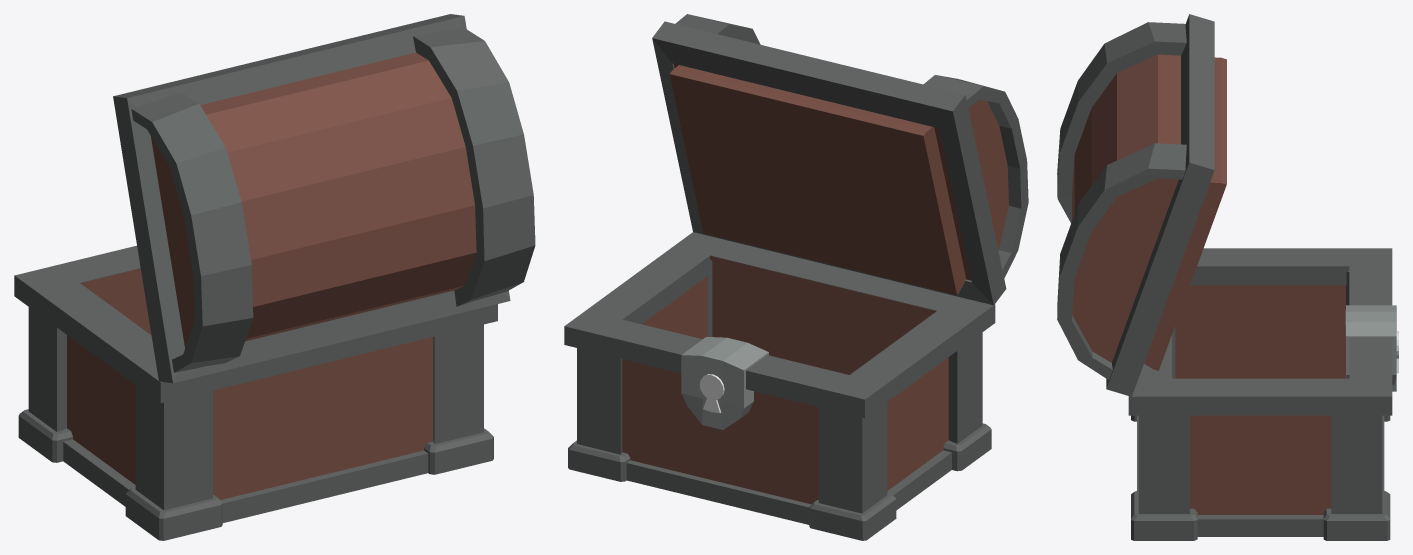
The model's file is Chest_open.fbx.
The picture shows the model from 3 angles, left to right: view 1: azimuth 30°, elevation 25°; view 2: azimuth 150°, elevation 25°; view 3: azimuth 270°, elevation 25°; orthographic projection. The views are drawn at different scales.
Parts seen in each view (by area): view 1: 뚜껑, 상자, 뚜껑기둥, 뚜껑아랫면, 상자기둥, 상자윗면, 상자아랫면, 상자기둥2; view 2: 뚜껑안, 상자, 상자윗면, 뚜껑아랫면, 상자기둥, 뚜껑기둥, 상자아랫면, 상자기둥2, 자물쇠, 뚜껑, 자물쇠구멍2; view 3: 상자, 상자윗면, 뚜껑, 뚜껑기둥, 뚜껑아랫면, 상자기둥, 뚜껑안, 상자기둥2, 상자아랫면, 자물쇠.
Part boxes in pixels (left/top/right/bottom): 뚜껑: left=151, top=52, right=476, bottom=348; 상자: left=67, top=268, right=432, bottom=499; 뚜껑기둥: left=131, top=27, right=535, bottom=372; 뚜껑아랫면: left=113, top=14, right=510, bottom=383; 상자기둥: left=28, top=307, right=483, bottom=510; 상자윗면: left=14, top=245, right=497, bottom=403; 상자아랫면: left=63, top=439, right=428, bottom=522; 상자기둥2: left=18, top=409, right=493, bottom=540; 뚜껑안: left=669, top=65, right=965, bottom=295; 상자: left=622, top=256, right=948, bottom=504; 상자윗면: left=564, top=232, right=995, bottom=417; 뚜껑아랫면: left=652, top=21, right=1006, bottom=305; 상자기둥: left=577, top=260, right=982, bottom=513; 뚜껑기둥: left=675, top=14, right=1028, bottom=278; 상자아랫면: left=626, top=450, right=951, bottom=524; 상자기둥2: left=568, top=423, right=991, bottom=540; 자물쇠: left=681, top=337, right=768, bottom=429; 뚜껑: left=674, top=64, right=1008, bottom=280; 자물쇠구멍2: left=699, top=374, right=724, bottom=413; 상자: left=1175, top=285, right=1345, bottom=514; 상자윗면: left=1128, top=248, right=1392, bottom=415; 뚜껑: left=1072, top=54, right=1180, bottom=362; 뚜껑기둥: left=1057, top=22, right=1186, bottom=379; 뚜껑아랫면: left=1106, top=14, right=1214, bottom=396; 상자기둥: left=1138, top=271, right=1382, bottom=513; 뚜껑안: left=1144, top=57, right=1226, bottom=370; 상자기둥2: left=1131, top=415, right=1390, bottom=540; 상자아랫면: left=1137, top=415, right=1384, bottom=536; 자물쇠: left=1345, top=305, right=1396, bottom=391.
Size of the model in its own units: 111 by 132 by 108.
